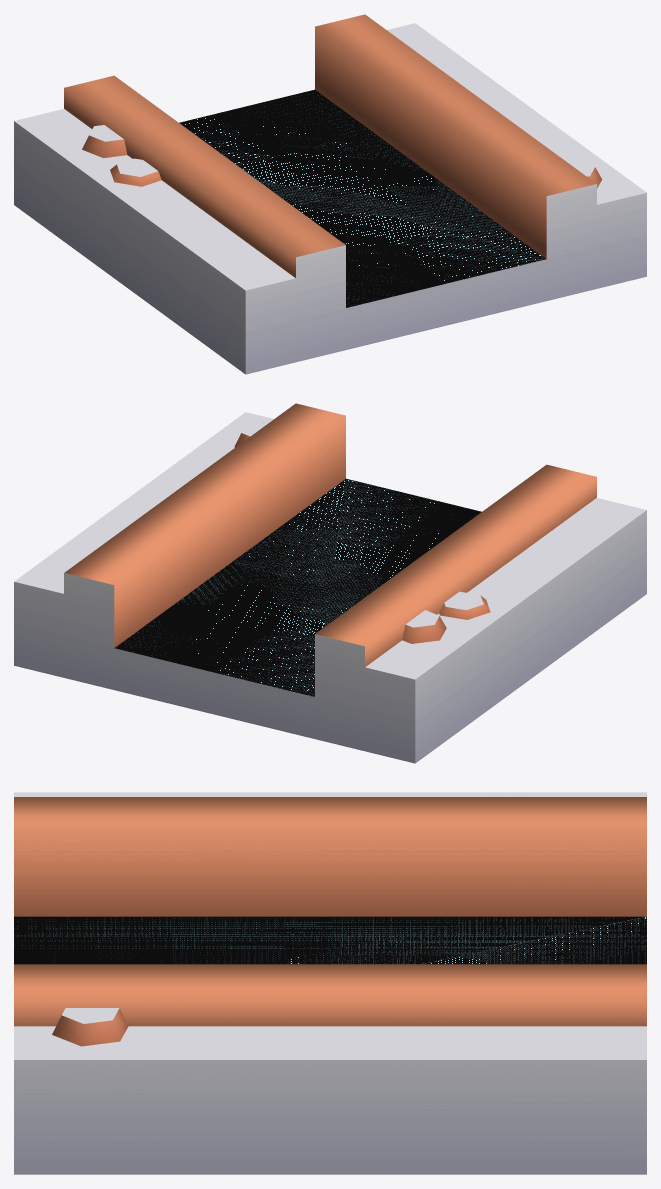
File: tower-defense-kit--snow-tile-river-straight.glb
The picture shows the model from 3 angles, top to bottom: view 1: azimuth 30°, elevation 25°; view 2: azimuth 150°, elevation 25°; view 3: azimuth 270°, elevation 25°; orthographic projection. The views are drawn at different scales.
Visible parts, largest first — view 1: snow-tile-river-straight; view 2: snow-tile-river-straight; view 3: snow-tile-river-straight.
Boxes of the visible parts, <box> form: snow-tile-river-straight: <box>14,14,646,374</box>; snow-tile-river-straight: <box>14,403,646,763</box>; snow-tile-river-straight: <box>14,792,646,1174</box>.
Bounding box in the file's own units: 1 × 0.25 × 1.
1 material, 1 textured.
